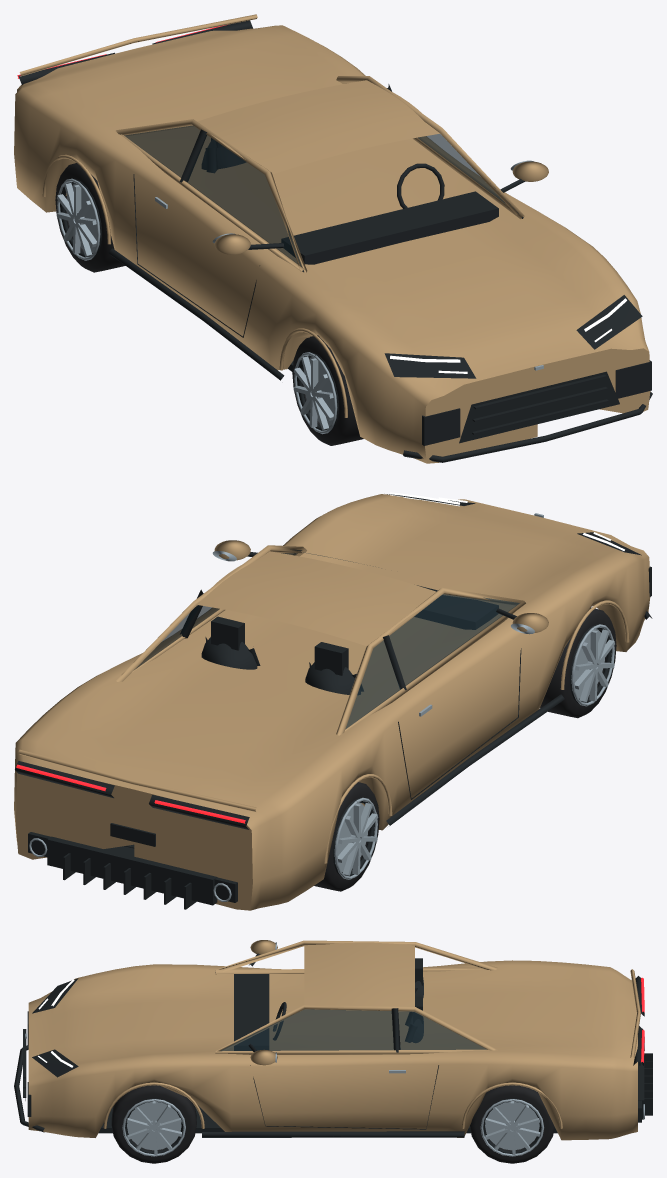
File: nova-lod1.glb
The picture shows the model from 3 angles, top to bottom: view 1: azimuth 30°, elevation 25°; view 2: azimuth 150°, elevation 25°; view 3: azimuth 270°, elevation 25°; orthographic projection. The views are drawn at different scales.
Parts seen in each view (by area): view 1: sculpted-coachwork_merged, undertray_merged, panoramic-windscreen_merged, brake-disc_merged (×2), tire (×2); view 2: sculpted-coachwork_merged, undertray_merged, panoramic-windscreen_merged, brake-disc_merged (×2), tire (×2), rear-light-guide_merged, flush-door-handle_merged; view 3: sculpted-coachwork_merged, undertray_merged, panoramic-windscreen_merged, brake-disc_merged (×2), tire (×2), rim-barrel_merged (×2).
Part boxes in pixels (x1,y1,x2,y2): sculpted-coachwork_merged: (14,14,650,463); undertray_merged: (18,20,652,462); panoramic-windscreen_merged: (124,125,518,267); brake-disc_merged (×2): (56,178,337,434); tire (×2): (55,163,363,445); sculpted-coachwork_merged: (14,494,650,910); undertray_merged: (15,494,652,909); panoramic-windscreen_merged: (134,549,519,728); brake-disc_merged (×2): (334,624,614,879); tire (×2): (314,607,616,891); rear-light-guide_merged: (16,764,245,823); flush-door-handle_merged: (29,513,543,901); sculpted-coachwork_merged: (28,940,640,1140); undertray_merged: (14,953,652,1137); panoramic-windscreen_merged: (220,1009,486,1051); brake-disc_merged (×2): (122,1099,544,1156); tire (×2): (111,1085,554,1163); rim-barrel_merged (×2): (125,1098,541,1154).
Size of the model in its own units: 2.29 by 1.26 by 5.08.
